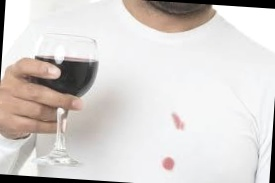wine: (170, 111, 188, 130), (159, 158, 178, 174)
